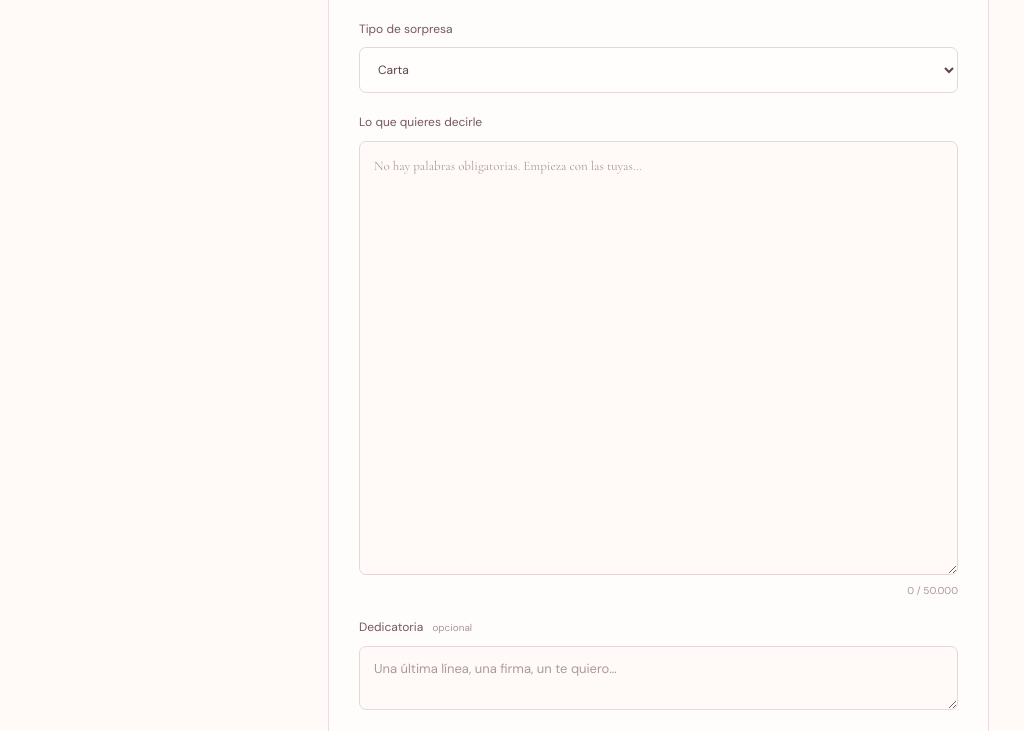
Editor privado › previsualizar no publica ni registra lecturas
(page scrolled)
Type "Solo una vista previa" into the text box labelled "Lo que quieres decirle" at (658, 358), box [359, 141, 958, 575]
(page scrolled)
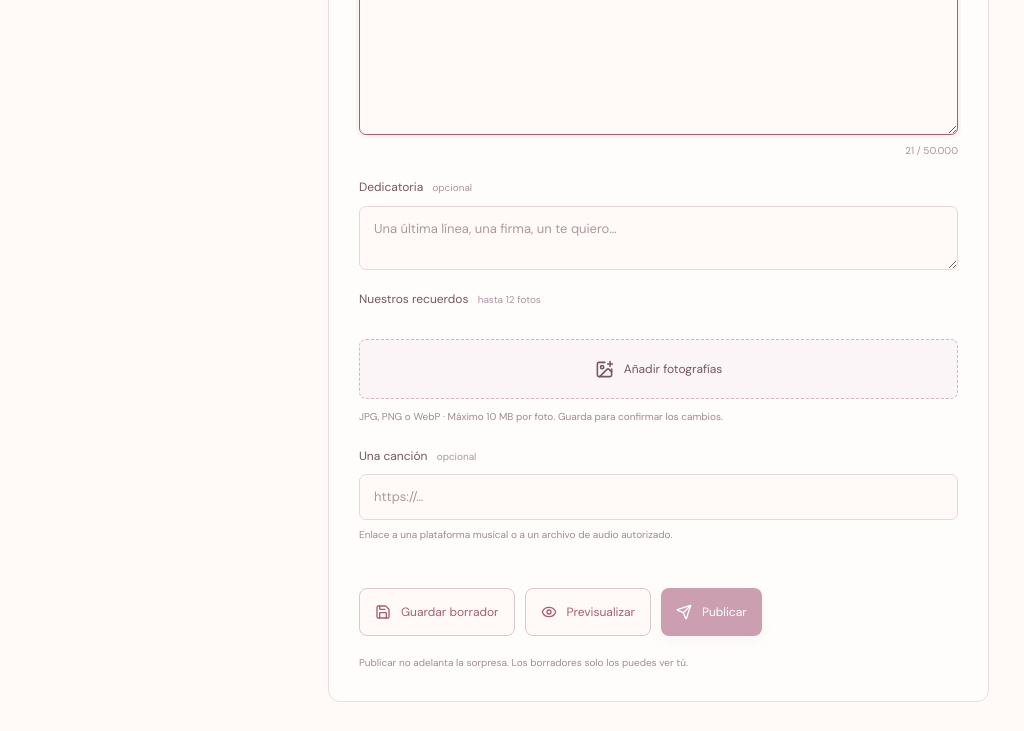
Click the button "Previsualizar" at (588, 612), box [524, 588, 651, 636]
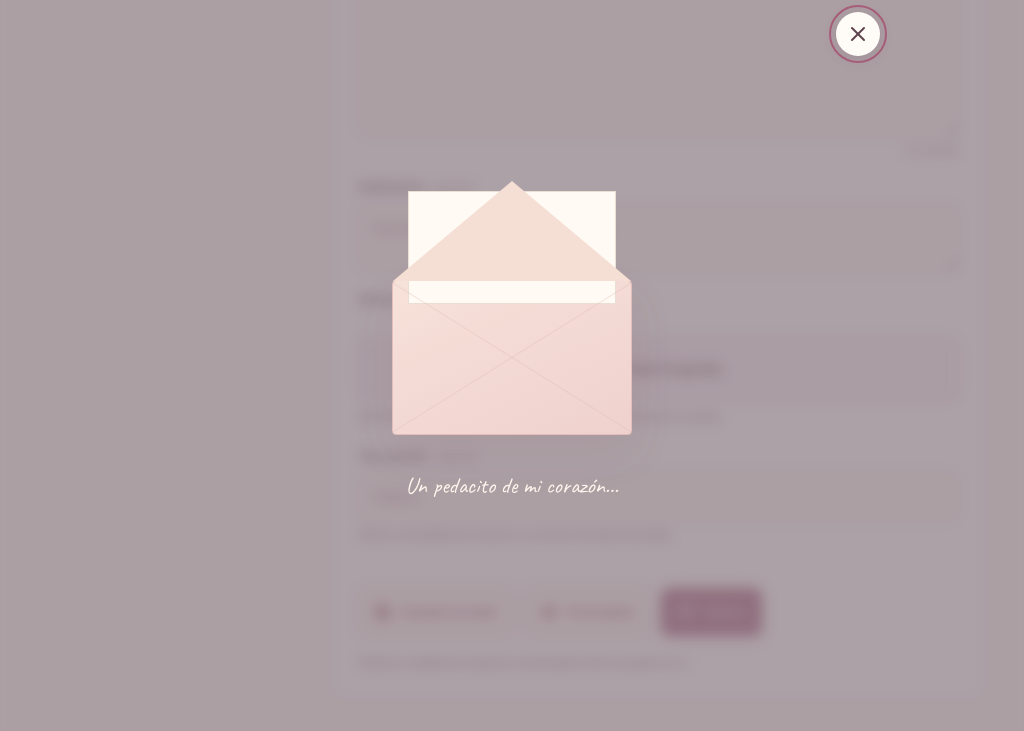
Expected: the dialog is shown, [392, 280, 632, 500]
